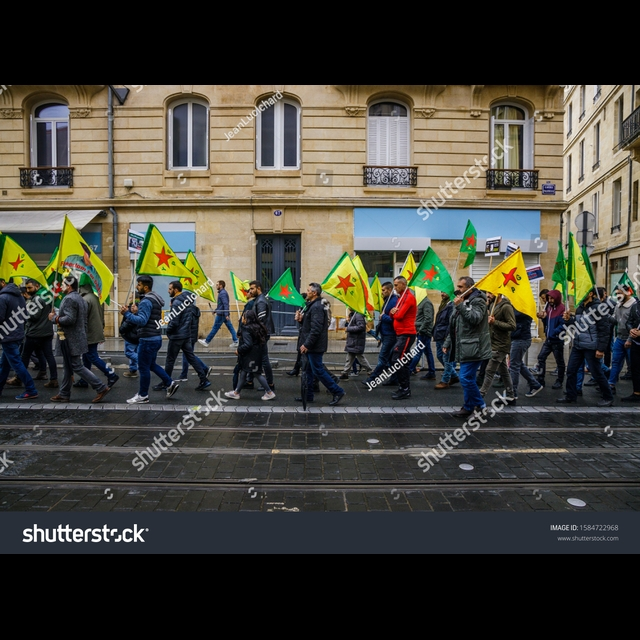YPG: (332, 271, 359, 300)
YPJ: (419, 259, 443, 287)
